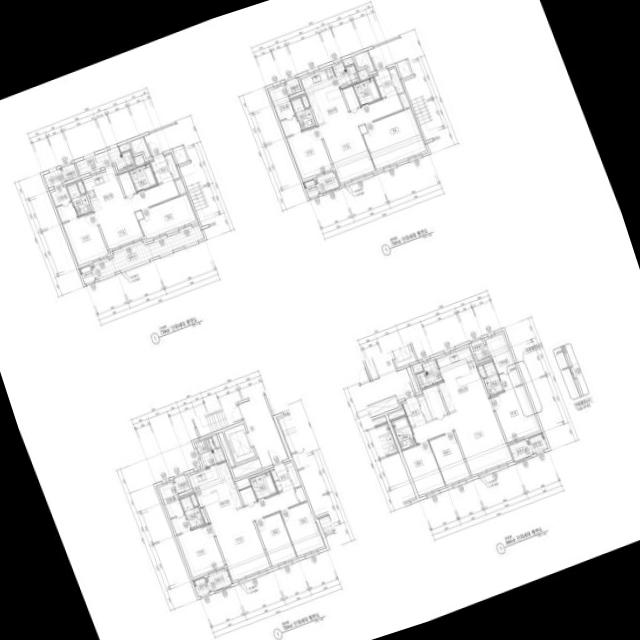background: (0, 0, 640, 640)
space_balconi: (91, 225, 205, 280), (76, 147, 135, 176), (196, 438, 225, 468), (417, 359, 443, 389), (333, 63, 360, 88), (206, 569, 232, 592), (510, 439, 534, 461), (315, 172, 340, 193), (43, 169, 65, 188)
space_bedroom: (363, 108, 426, 170), (491, 385, 540, 443), (139, 194, 196, 239), (177, 524, 225, 577), (63, 212, 109, 265), (287, 126, 333, 179), (402, 441, 446, 496), (281, 502, 324, 556), (256, 513, 297, 566), (430, 432, 471, 485)
space_dressroom: (486, 333, 522, 390), (269, 85, 301, 137), (159, 482, 190, 535), (51, 185, 77, 223)
space_elevator: (224, 424, 256, 463)
space_elevator_hall: (239, 395, 288, 468)
space_front: (150, 154, 180, 185), (374, 68, 404, 98), (270, 462, 294, 492), (403, 396, 426, 427)
space_kitchen: (436, 346, 489, 413), (188, 462, 243, 519), (301, 67, 349, 125), (83, 166, 125, 210)
space_living_room: (210, 488, 300, 581), (412, 398, 512, 475), (319, 94, 403, 183), (94, 180, 179, 250)
space_other: (423, 385, 447, 419), (232, 458, 263, 479), (218, 432, 235, 467), (118, 172, 137, 196), (355, 51, 375, 73), (131, 137, 151, 159), (343, 86, 361, 110), (471, 339, 490, 361), (286, 462, 301, 488), (418, 395, 433, 421), (407, 367, 420, 393), (239, 487, 257, 505), (396, 59, 412, 79), (172, 145, 188, 165), (174, 475, 190, 494), (285, 78, 302, 95), (62, 164, 79, 181), (388, 409, 406, 420), (295, 487, 307, 503), (399, 93, 410, 109), (175, 179, 186, 195), (134, 156, 145, 167), (358, 70, 369, 81), (201, 508, 209, 523), (119, 143, 131, 153), (77, 181, 86, 194), (301, 95, 310, 108), (478, 365, 486, 377), (190, 494, 198, 506), (414, 364, 424, 373), (213, 436, 220, 448), (344, 59, 354, 67)
space_outdoor_room: (529, 433, 549, 454), (193, 577, 210, 597), (303, 179, 320, 198), (79, 265, 96, 284)
space_toilet: (391, 416, 417, 450), (67, 183, 92, 216), (180, 496, 205, 529), (291, 97, 316, 130), (129, 163, 157, 192), (354, 77, 382, 106), (250, 472, 278, 500), (483, 361, 504, 396)
